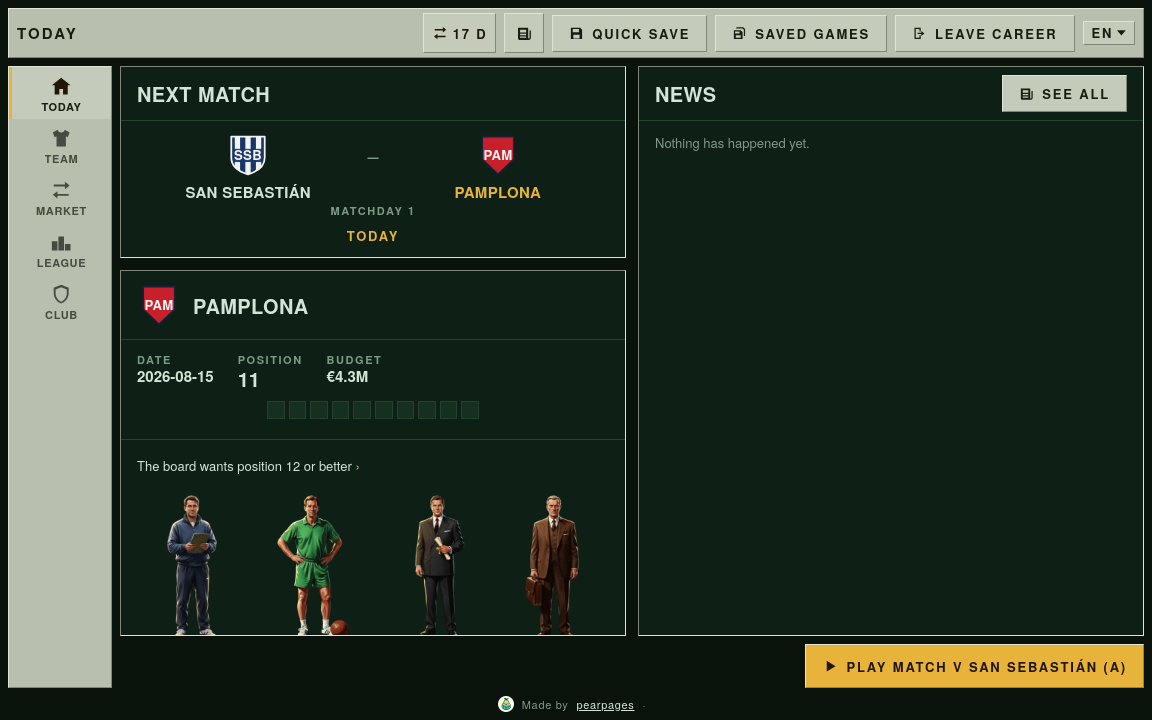
it: comparing two players › names both shapes in the key
Click the button "Team" at (60, 145), box [9,119,111,171]
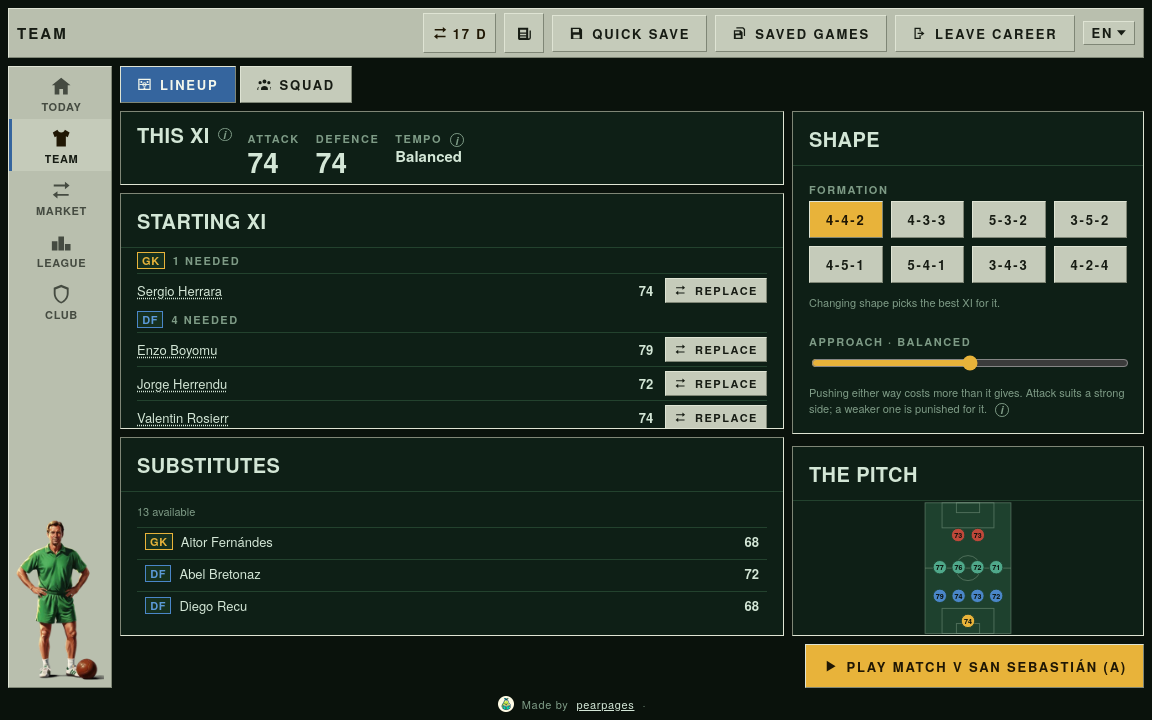
Click the button "Squad" at (296, 84), box [240,66,352,103]
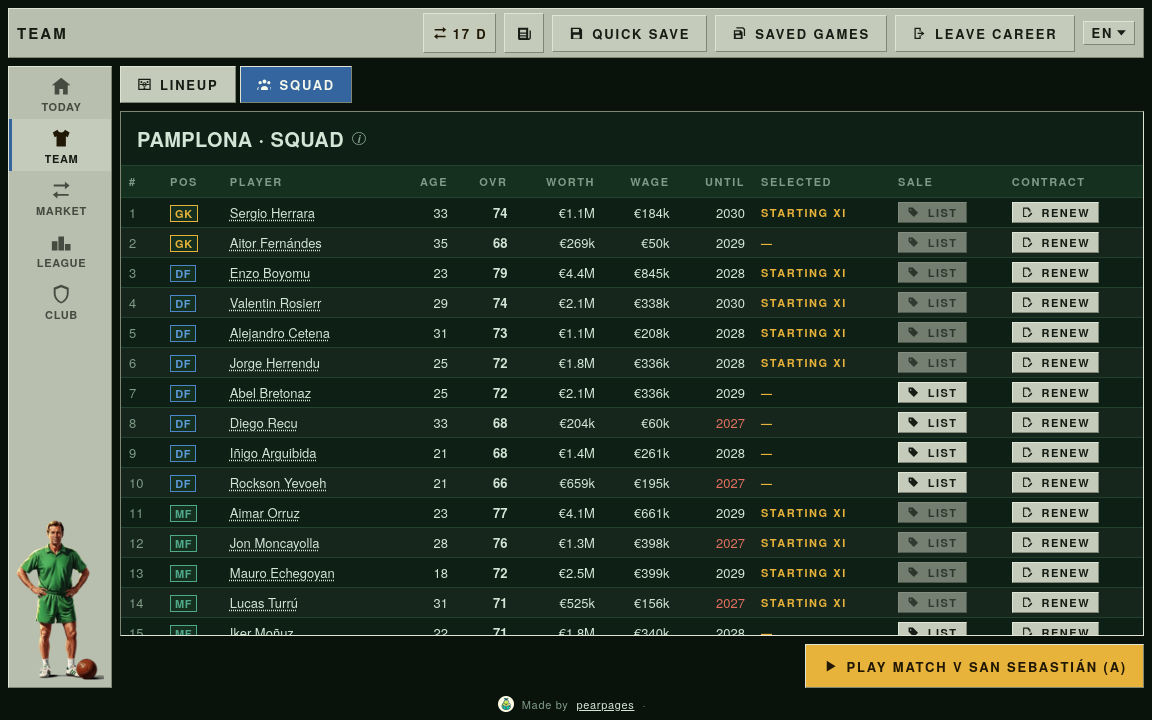
Click the button "Enzo Boyomu" at (270, 272), box [230,263,310,282]
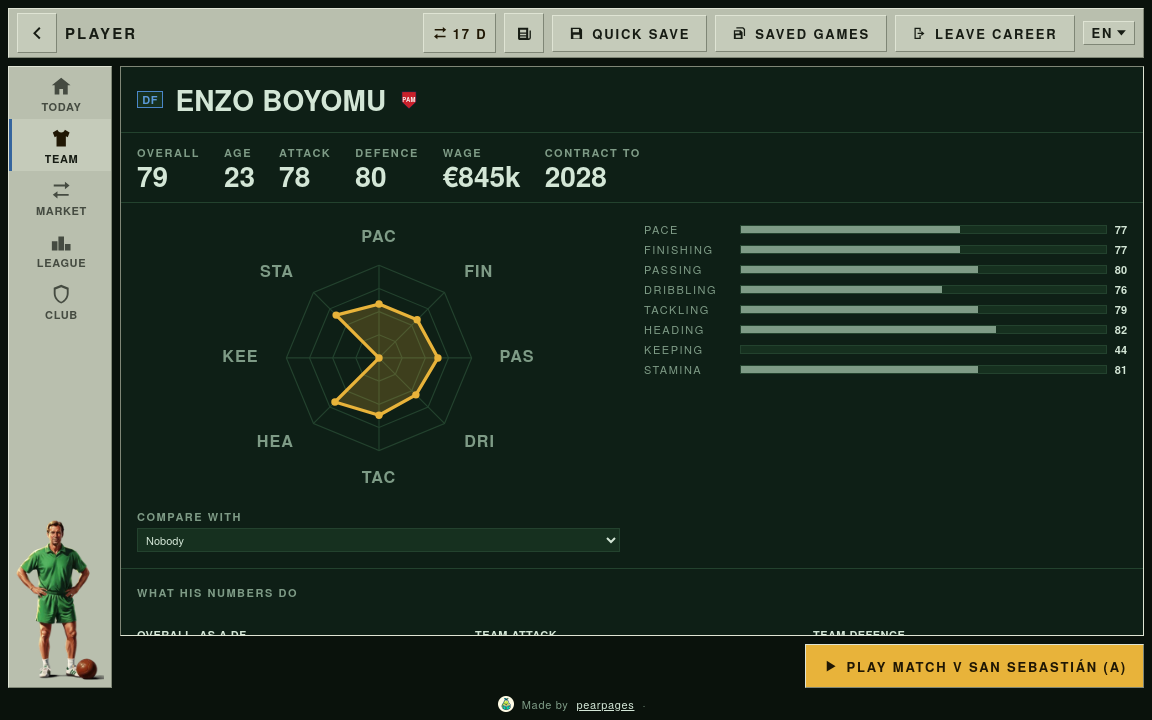
Select "Jorge Herrendu · DF 72" in the dropdown labelled "Compare with" at (378, 540), box [137,528,620,552]
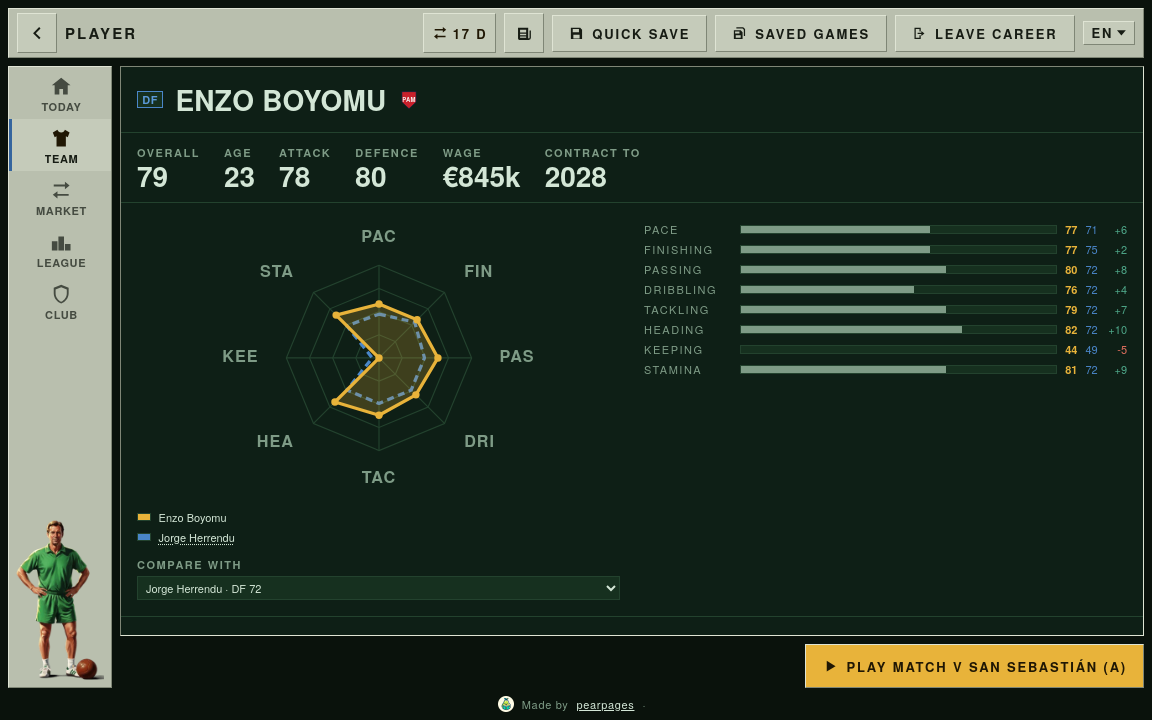
Expected: the list with class "radar-key" shows "Enzo Boyomu", [159,509,227,525]
Expected: the list with class "radar-key" shows "Jorge Herrendu", [159,529,235,545]
